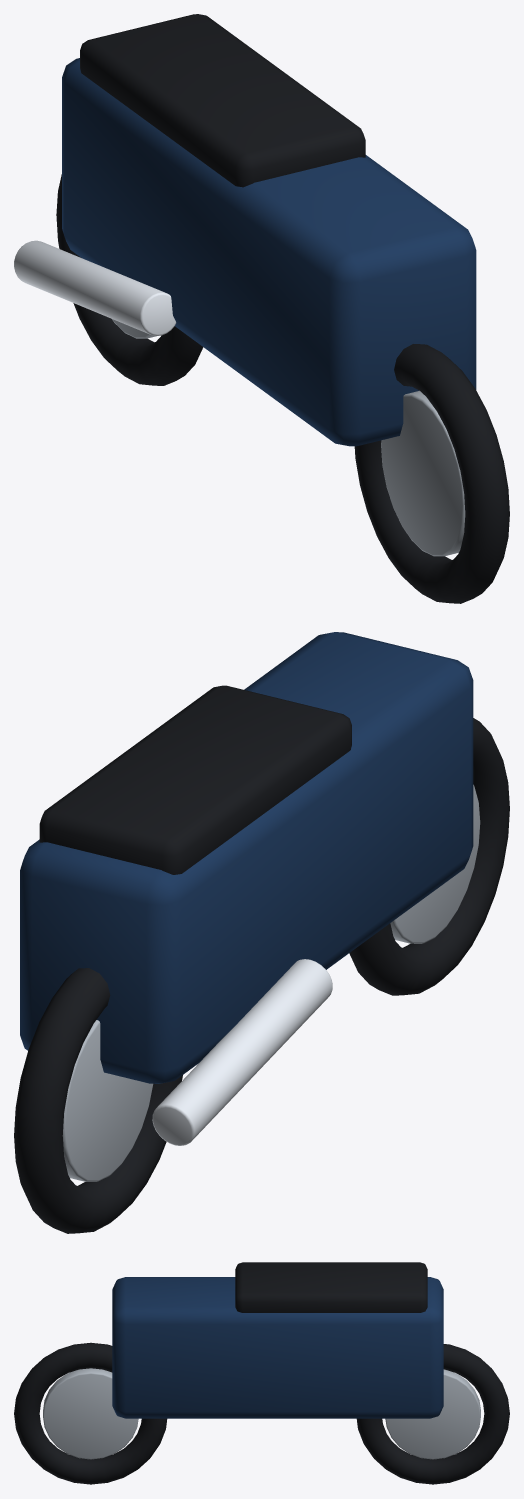
The model's file is moto-commuter-b7e2b193340d.glb.
The picture shows the model from 3 angles, top to bottom: view 1: azimuth 30°, elevation 25°; view 2: azimuth 150°, elevation 25°; view 3: azimuth 270°, elevation 25°; orthographic projection. The views are drawn at different scales.
Parts seen in each view (by area): view 1: Body_Spine, Mesh_Tire_Rubber, Mesh_Galv_Steel, Muffler; view 2: Body_Spine, Mesh_Tire_Rubber, Mesh_Galv_Steel, Muffler; view 3: Body_Spine, Mesh_Tire_Rubber, Mesh_Galv_Steel.
Part boxes in pixels (x1,y1,x2,y2): Body_Spine: (62, 58, 476, 446); Mesh_Tire_Rubber: (56, 14, 509, 603); Mesh_Galv_Steel: (112, 319, 465, 556); Muffler: (14, 240, 176, 335); Body_Spine: (20, 632, 473, 1083); Mesh_Tire_Rubber: (14, 685, 509, 1233); Mesh_Galv_Steel: (62, 784, 480, 1181); Muffler: (152, 959, 332, 1145); Body_Spine: (112, 1277, 443, 1418); Mesh_Tire_Rubber: (14, 1262, 509, 1484); Mesh_Galv_Steel: (43, 1368, 480, 1459).
Bounding box in the file's own units: 0.438 × 0.85 × 1.86.
